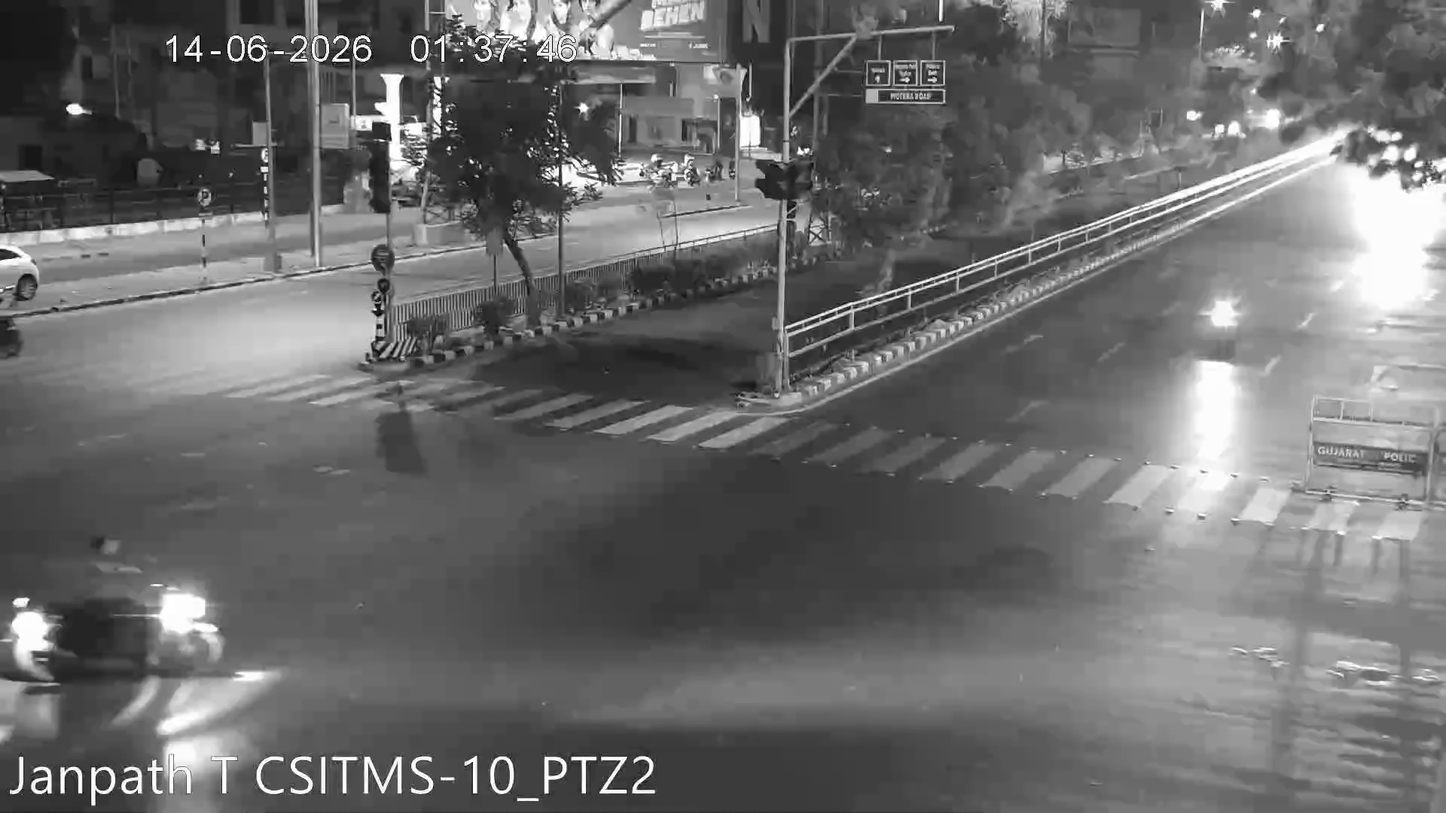car: (0, 233, 46, 323)
two_wheeler: (1, 522, 251, 692), (1195, 268, 1250, 365)
